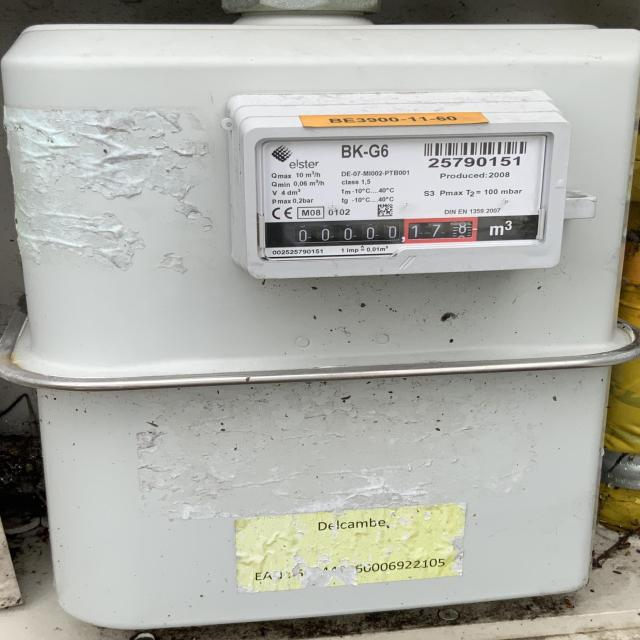gaz_meter: (260, 137, 541, 248)
indication: (283, 217, 483, 248)
